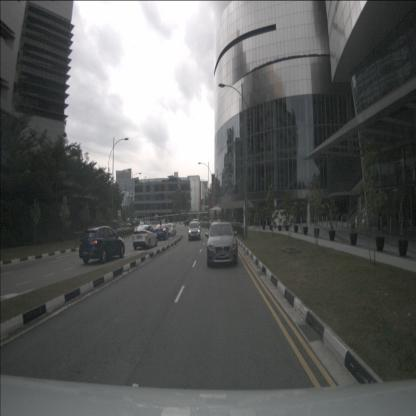vehicle-car: (79, 225, 125, 264), (207, 222, 238, 267), (132, 225, 158, 250), (271, 210, 294, 228), (154, 222, 170, 240), (188, 221, 200, 242), (165, 223, 177, 237), (192, 219, 200, 228), (171, 225, 177, 233)
